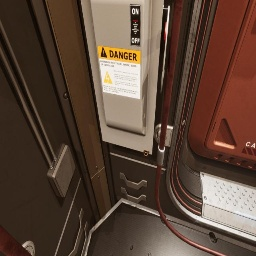SafetySwitchPanel ,: (80, 0, 170, 157)
